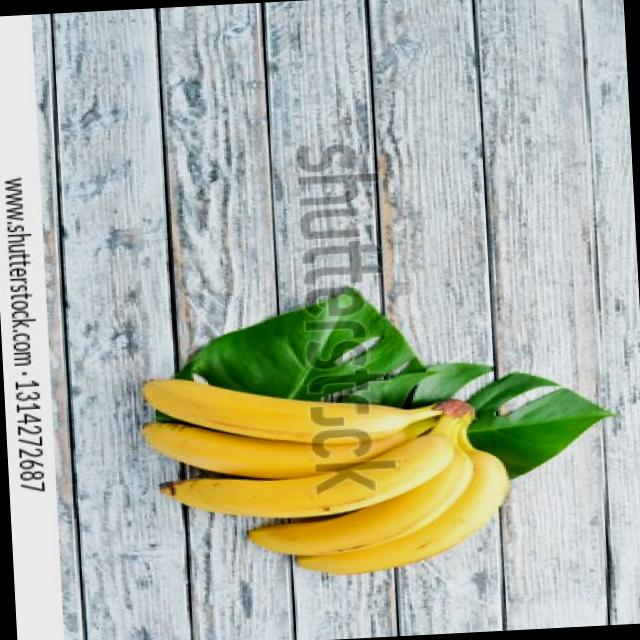Platano: (128, 360, 518, 588)
